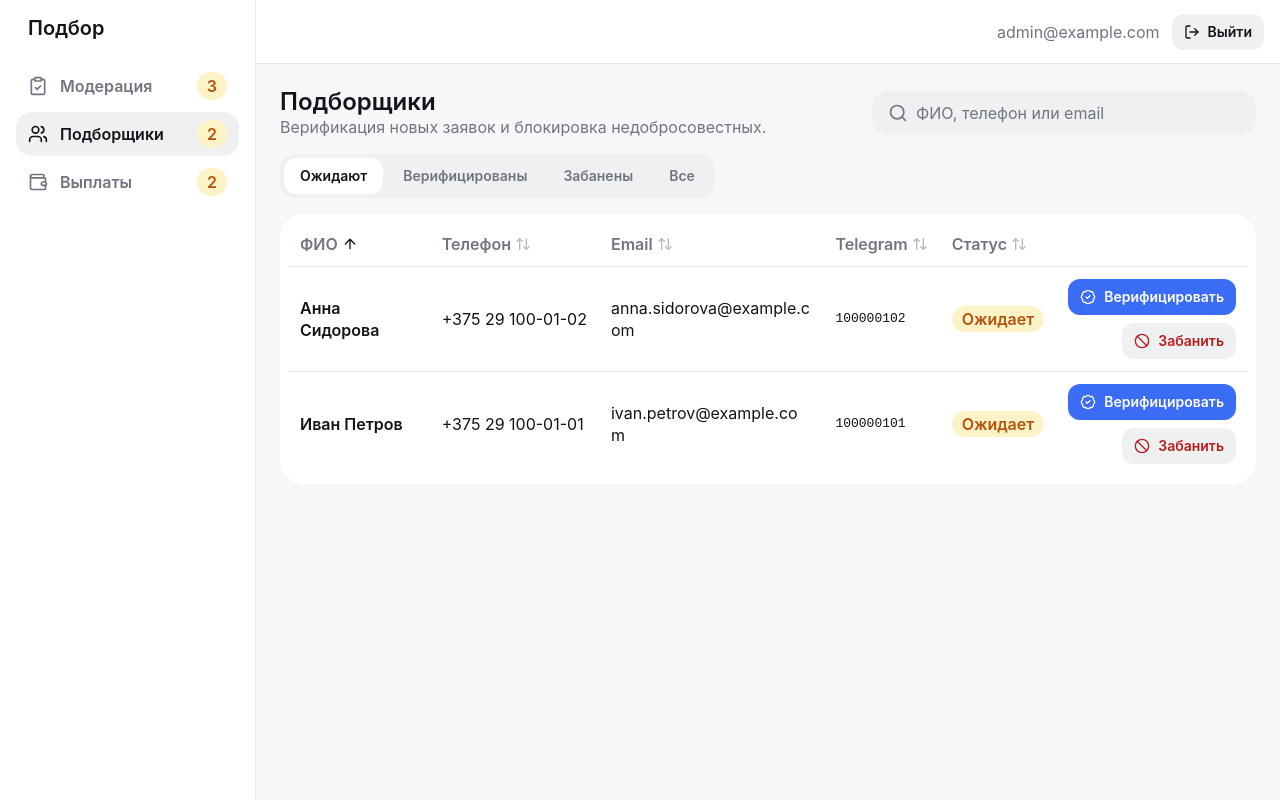
Test: верификация › 409 INSPECTOR_NOT_PENDING → тост-предупреждение, диалог закрыт, список обновлён
Click the button "Верифицировать" in the row of "Иван Петров": (1152, 402) [1068, 384, 1236, 420]
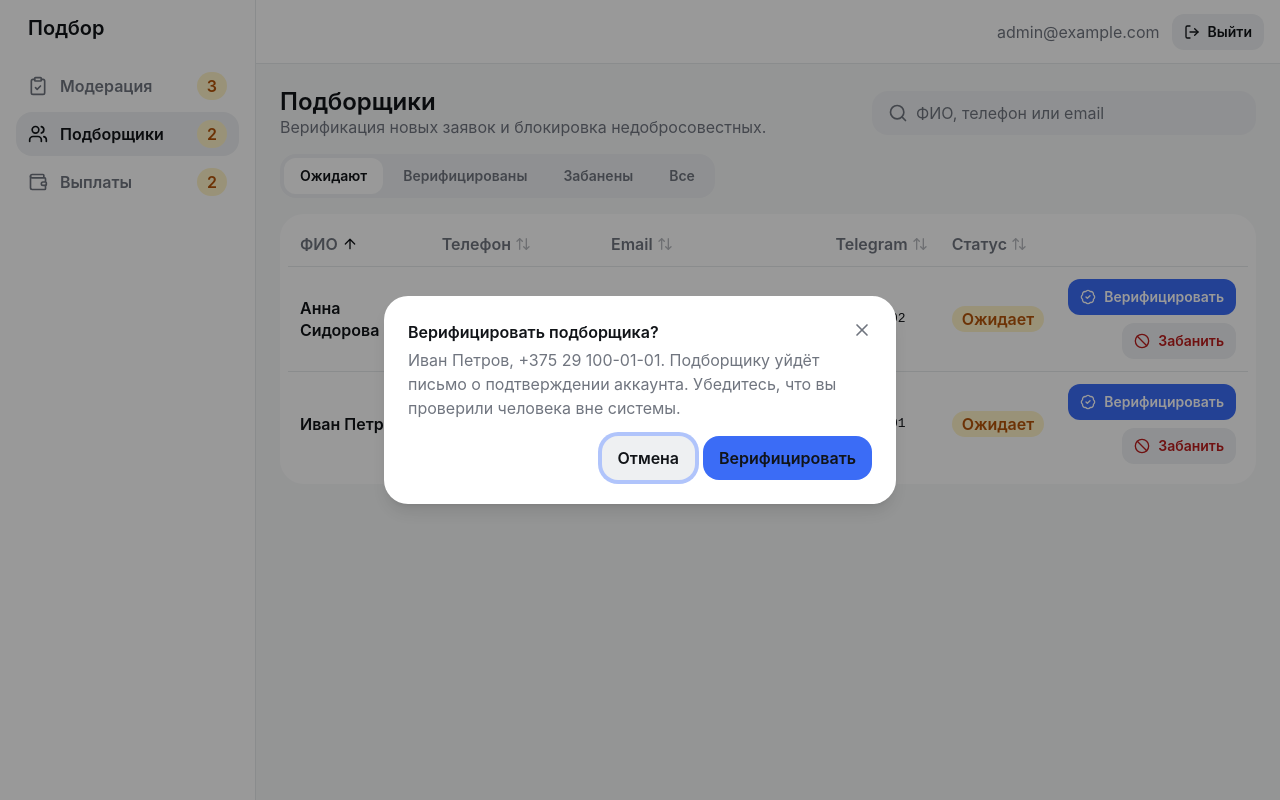
Check: the dialog is shown, box [384, 296, 896, 504]
Click the button "Верифицировать": (788, 458) [703, 436, 872, 480]
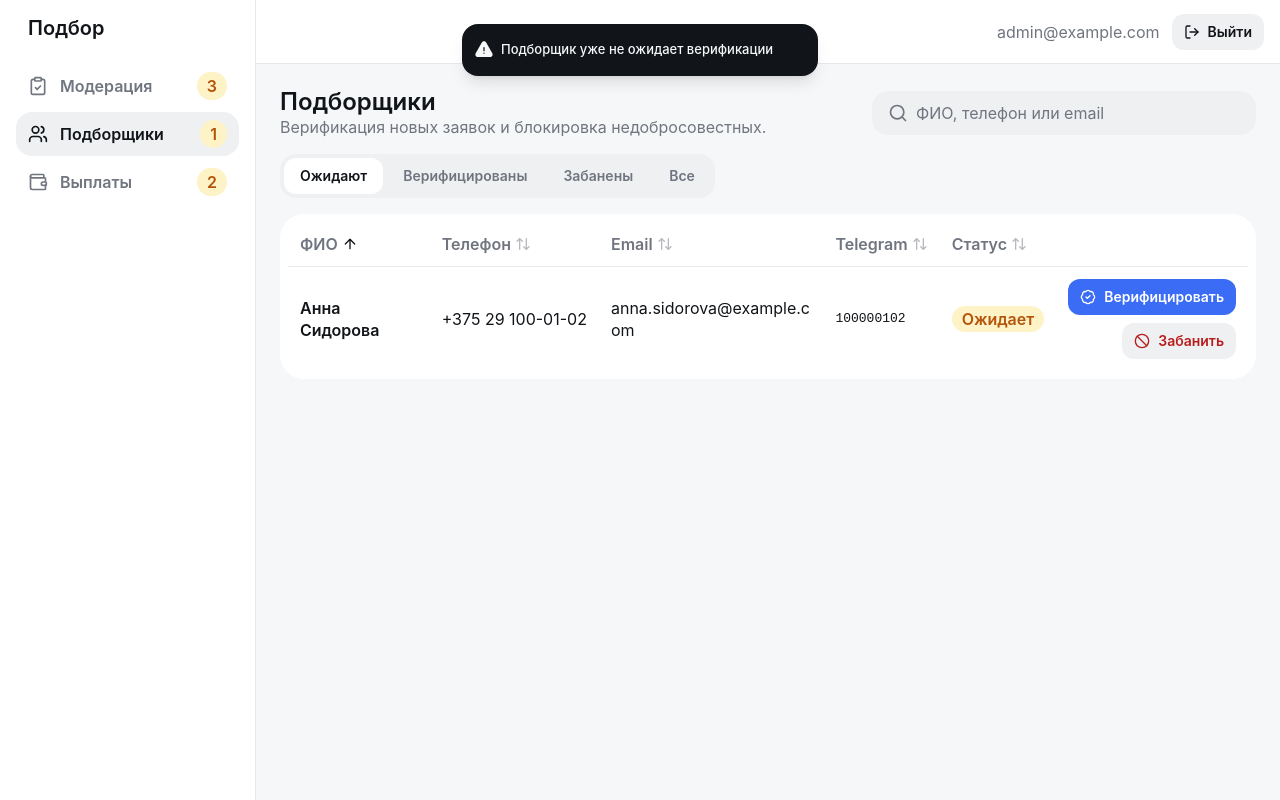
Check: the text "Подборщик уже не ожидает верификации" is shown, box [501, 40, 773, 60]
Check: the dialog is gone
